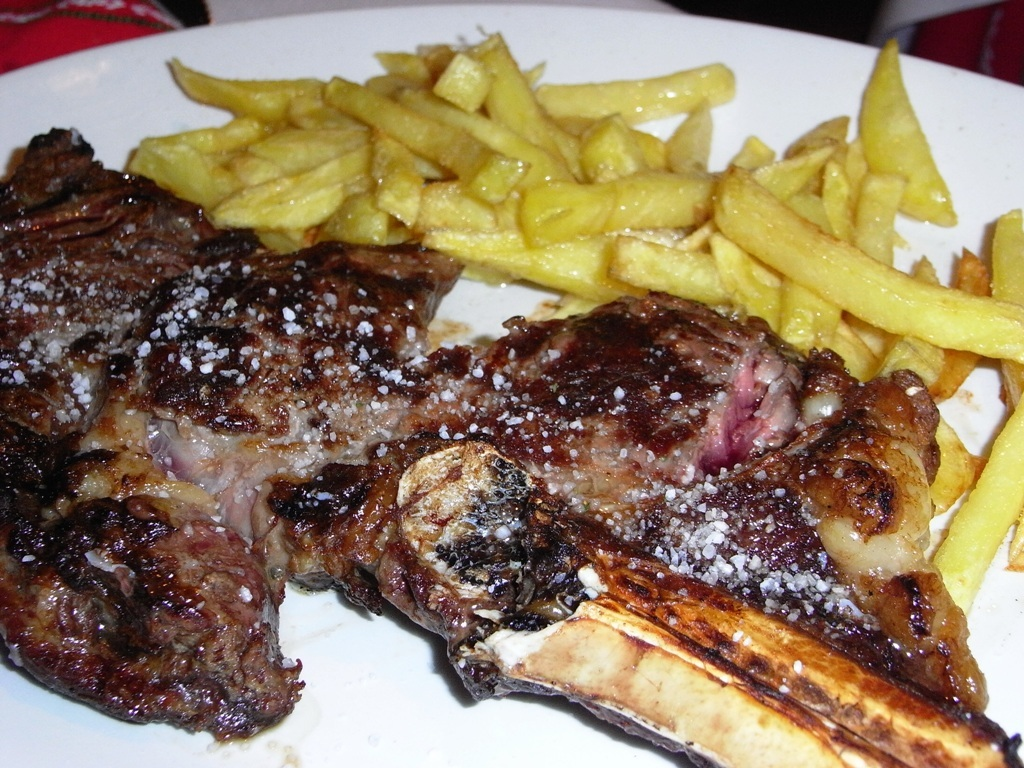French fries: (124, 25, 1022, 636)
